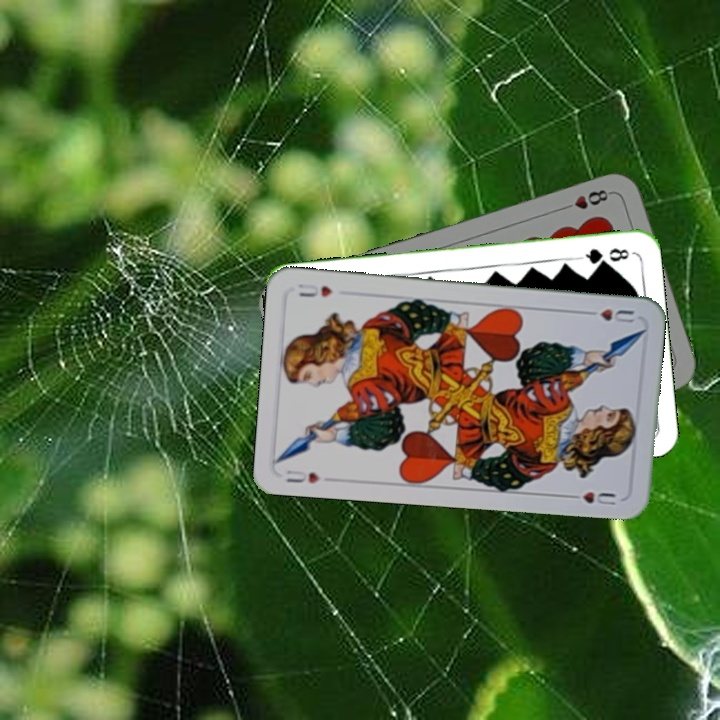G8: (575, 244, 632, 267)
H8: (557, 185, 615, 213)
HU: (580, 305, 637, 326), (282, 466, 322, 486)
